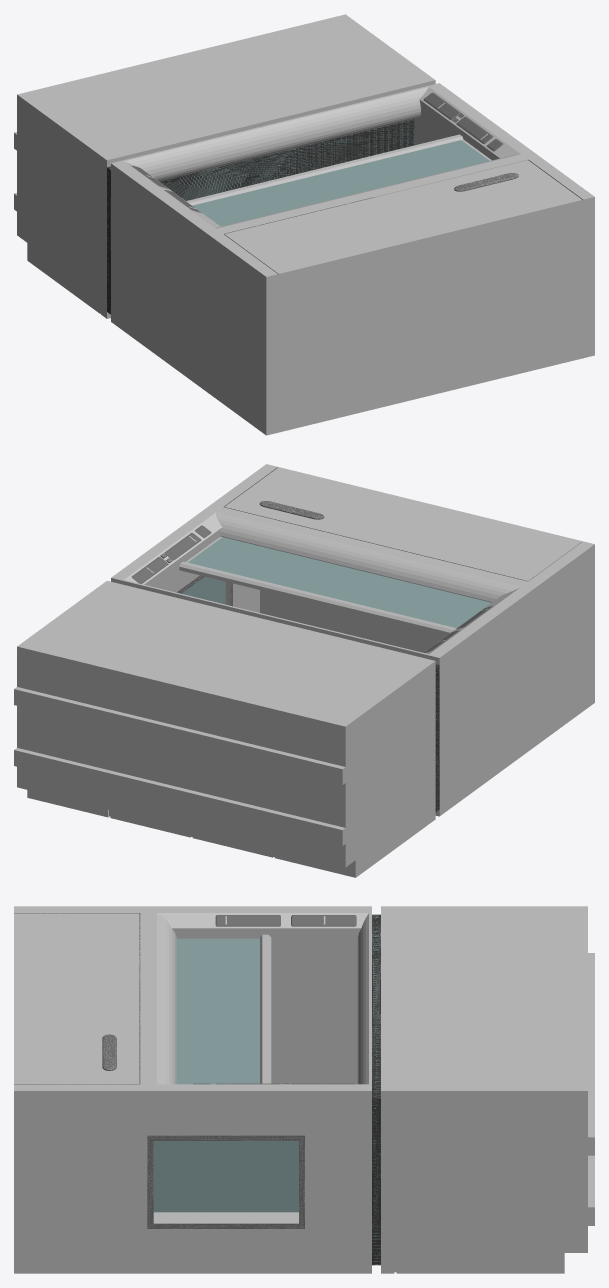
The picture shows the model from 3 angles, top to bottom: view 1: azimuth 30°, elevation 25°; view 2: azimuth 150°, elevation 25°; view 3: azimuth 270°, elevation 25°; orthographic projection. The views are drawn at different scales.
Visible parts, largest first — view 1: labconco protector pass through laboratory fume hood; view 2: labconco protector pass through laboratory fume hood; view 3: labconco protector pass through laboratory fume hood.
Part boxes in pixels (x1,y1,x2,y2): labconco protector pass through laboratory fume hood: [14, 14, 594, 435]; labconco protector pass through laboratory fume hood: [14, 464, 594, 877]; labconco protector pass through laboratory fume hood: [14, 906, 594, 1273].
Bounding box in the file's own units: 71.99 × 33.93 × 95.78.
